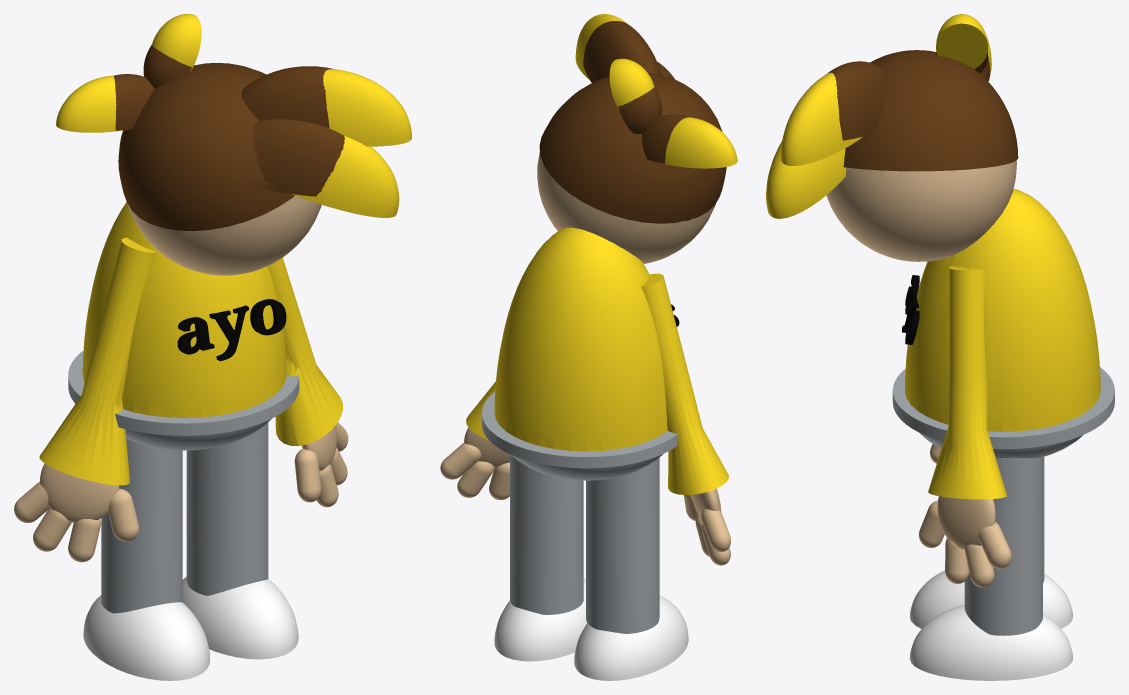
Rendered from people1.glb.
The picture shows the model from 3 angles, left to right: view 1: azimuth 30°, elevation 25°; view 2: azimuth 150°, elevation 25°; view 3: azimuth 270°, elevation 25°; orthographic projection. The views are drawn at different scales.
Visible parts, largest first — view 1: Object_5, Object_6, Object_7, Object_3, Object_4, Object_2; view 2: Object_5, Object_7, Object_6, Object_3, Object_4; view 3: Object_5, Object_3, Object_6, Object_7, Object_4, Object_2.
Part boxes in pixels (<box>): Object_5: <box>39,14,411,485</box>; Object_6: <box>113,45,344,231</box>; Object_7: <box>68,350,299,613</box>; Object_3: <box>14,195,348,562</box>; Object_4: <box>83,576,298,680</box>; Object_2: <box>177,299,286,361</box>; Object_5: <box>466,14,737,494</box>; Object_7: <box>482,392,677,633</box>; Object_6: <box>539,21,726,223</box>; Object_3: <box>440,151,730,565</box>; Object_4: <box>494,578,688,680</box>; Object_5: <box>766,14,1100,499</box>; Object_3: <box>826,160,1016,587</box>; Object_6: <box>827,50,1018,171</box>; Object_7: <box>892,367,1114,635</box>; Object_4: <box>909,570,1072,680</box>; Object_2: <box>902,275,919,344</box>.
Bounding box in the file's own units: 27.56 × 51.66 × 26.7.
